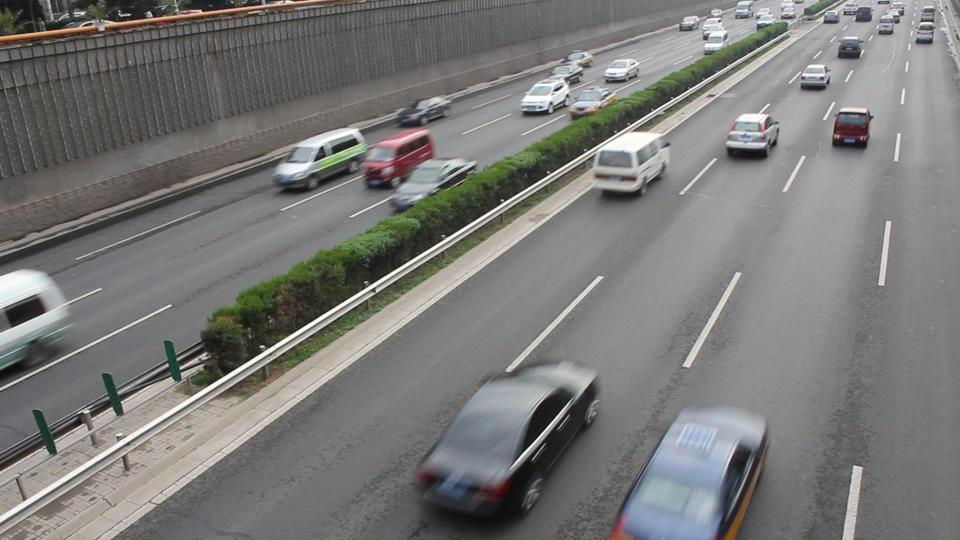car: (412, 360, 604, 520), (606, 403, 773, 540), (390, 157, 480, 214), (724, 112, 782, 159), (519, 78, 575, 115), (397, 95, 453, 127), (831, 107, 874, 147), (567, 89, 616, 121), (603, 59, 641, 83), (547, 63, 587, 85), (799, 64, 832, 90), (563, 49, 595, 69), (835, 36, 864, 58), (915, 22, 935, 43), (877, 18, 896, 35), (824, 11, 840, 23)
truck: (0, 268, 76, 371), (272, 126, 373, 191), (592, 130, 672, 197), (360, 127, 437, 190)
